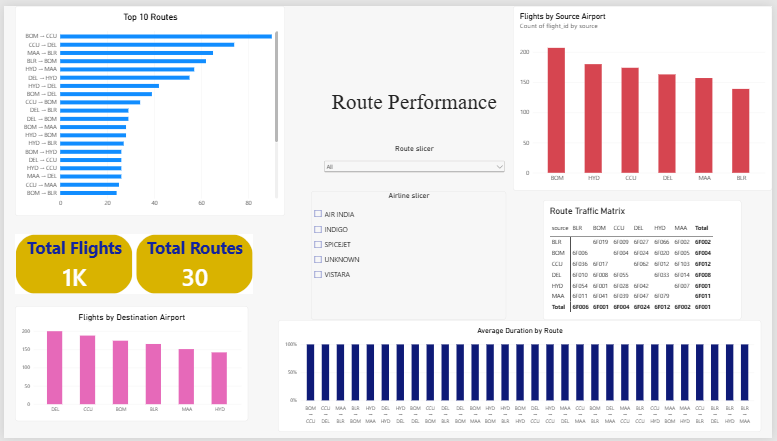

The dashboard page shown, as its layout file describes it:
{"tool":"powerbi","page":{"name":"Route Performance","canvas":[1920,1080],"ordinal":2},"visuals":[{"type":"clusteredColumnChart","title":"Flights by Destination Airport","fields":{"Category":["fact_flights.destination"],"Y":["CountNonNull(fact_flights.flight_id)"]},"box":[27.5,750,582.5,287.5],"z":0},{"type":"cardVisual","fields":{"Data":["fact_flights.Total Flights","dim_airline.Total Routes"]},"box":[27.5,570,595,150],"z":1},{"type":"clusteredColumnChart","title":"Flights by Source Airport","fields":{"Category":["fact_flights.source"],"Y":["CountNonNull(fact_flights.flight_id)"]},"box":[1272,0,648,462],"z":2},{"type":"clusteredBarChart","title":"Top 10 Routes","fields":{"Category":["fact_flights.route"],"Y":["CountNonNull(fact_flights.flight_id)"]},"box":[27.5,0,675,525],"z":3},{"type":"hundredPercentStackedColumnChart","title":"Average Duration by Route","fields":{"Category":["fact_flights.route"],"Y":["CountNonNull(fact_flights.duration_minutes)"]},"box":[684,784,1208,280],"z":4},{"type":"pivotTable","title":"Route Traffic Matrix","fields":{"Columns":["fact_flights.destination"],"Rows":["fact_flights.source"],"Values":["Min(fact_flights.flight_id)"]},"box":[1348,484,496,300],"z":5},{"type":"slicer","title":"Airline slicer","fields":{"Values":["fact_flights.airline"]},"box":[768,462,488,322],"z":6},{"type":"slicer","title":"Route slicer","fields":{"Values":["fact_flights.route"]},"box":[794,344,462,78],"z":7},{"type":"textbox","box":[794,0,462,344],"z":8}]}

Visuals, with their boxes in screenshot pixels (x1, y1, x2, y2), scaled from the page's 1920x1080 canvas onto the 777x441 screenshot:
"Flights by Destination Airport" clusteredColumnChart: (left=11, top=306, right=247, bottom=424)
cardVisual - fact_flights.Total Flights x dim_airline.Total Routes: (left=11, top=233, right=252, bottom=294)
"Flights by Source Airport" clusteredColumnChart: (left=515, top=0, right=776, bottom=189)
"Top 10 Routes" clusteredBarChart: (left=11, top=0, right=284, bottom=214)
"Average Duration by Route" hundredPercentStackedColumnChart: (left=277, top=320, right=766, bottom=434)
"Route Traffic Matrix" pivotTable: (left=546, top=198, right=746, bottom=320)
"Airline slicer" slicer: (left=311, top=189, right=508, bottom=320)
"Route slicer" slicer: (left=321, top=140, right=508, bottom=172)
textbox: (left=321, top=0, right=508, bottom=140)
